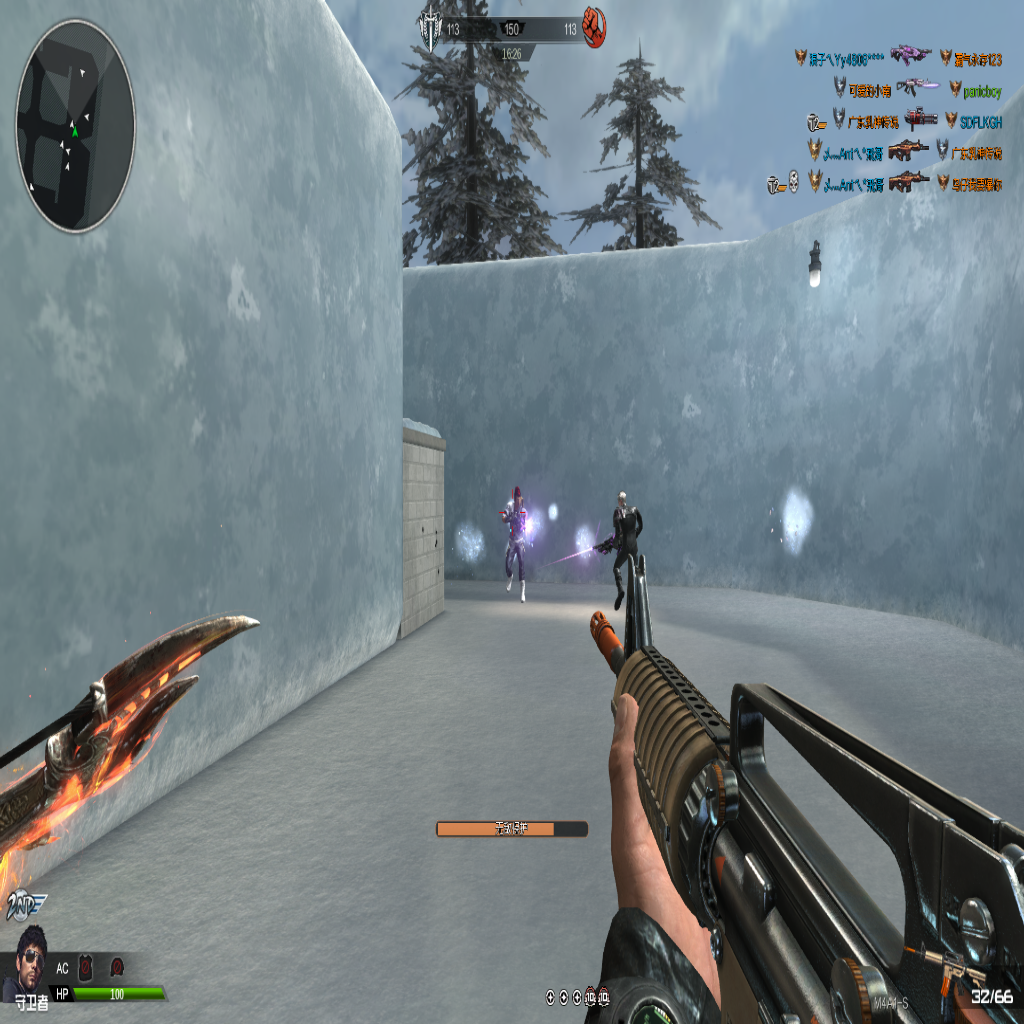ct: (610, 494, 643, 613)
tt: (501, 482, 529, 594)
